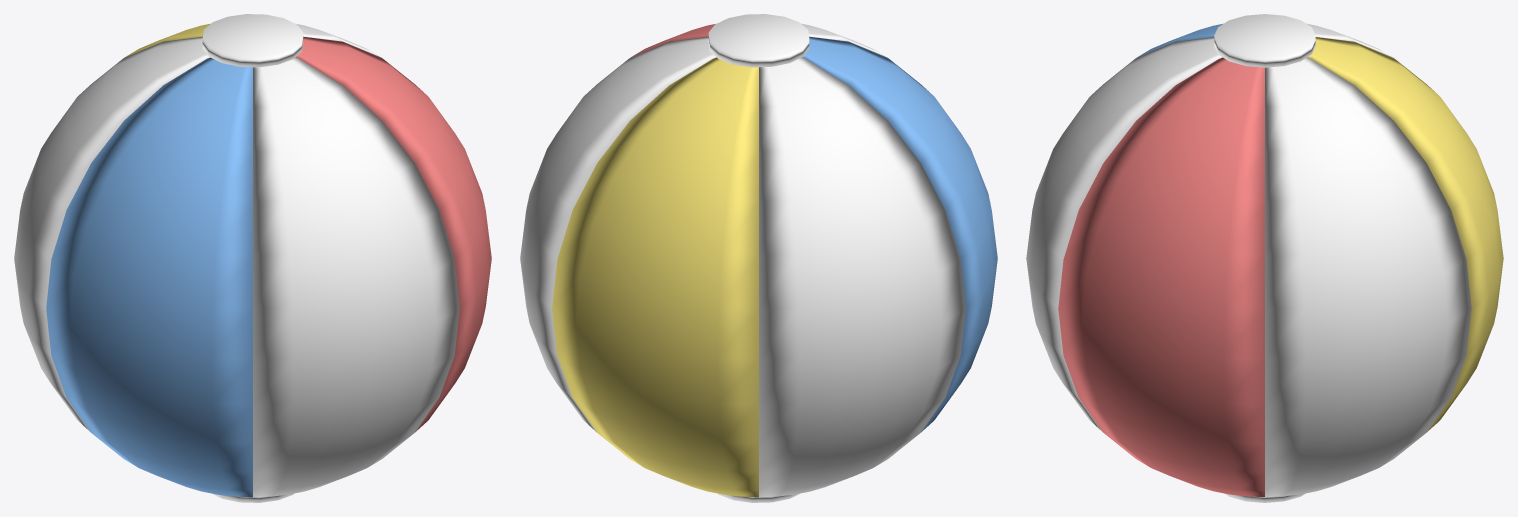
File: MessyMemoryBall.glb
The picture shows the model from 3 angles, left to right: view 1: azimuth 30°, elevation 25°; view 2: azimuth 150°, elevation 25°; view 3: azimuth 270°, elevation 25°; orthographic projection.
Parts seen in each view (by area): view 1: White, Blue, Red; view 2: White, Yellow, Blue; view 3: White, Red, Yellow.
Boxes of the visible parts, x1,y1,x2,y2 form: White: (14,14,459,502); Blue: (46,57,252,497); Red: (295,36,491,432); White: (520,14,965,502); Yellow: (552,57,758,497); Blue: (802,36,997,432); White: (1026,14,1471,502); Red: (1058,57,1264,496); Yellow: (1307,37,1503,431).
Bounding box in the file's own units: 1.6 × 1.65 × 1.6.
